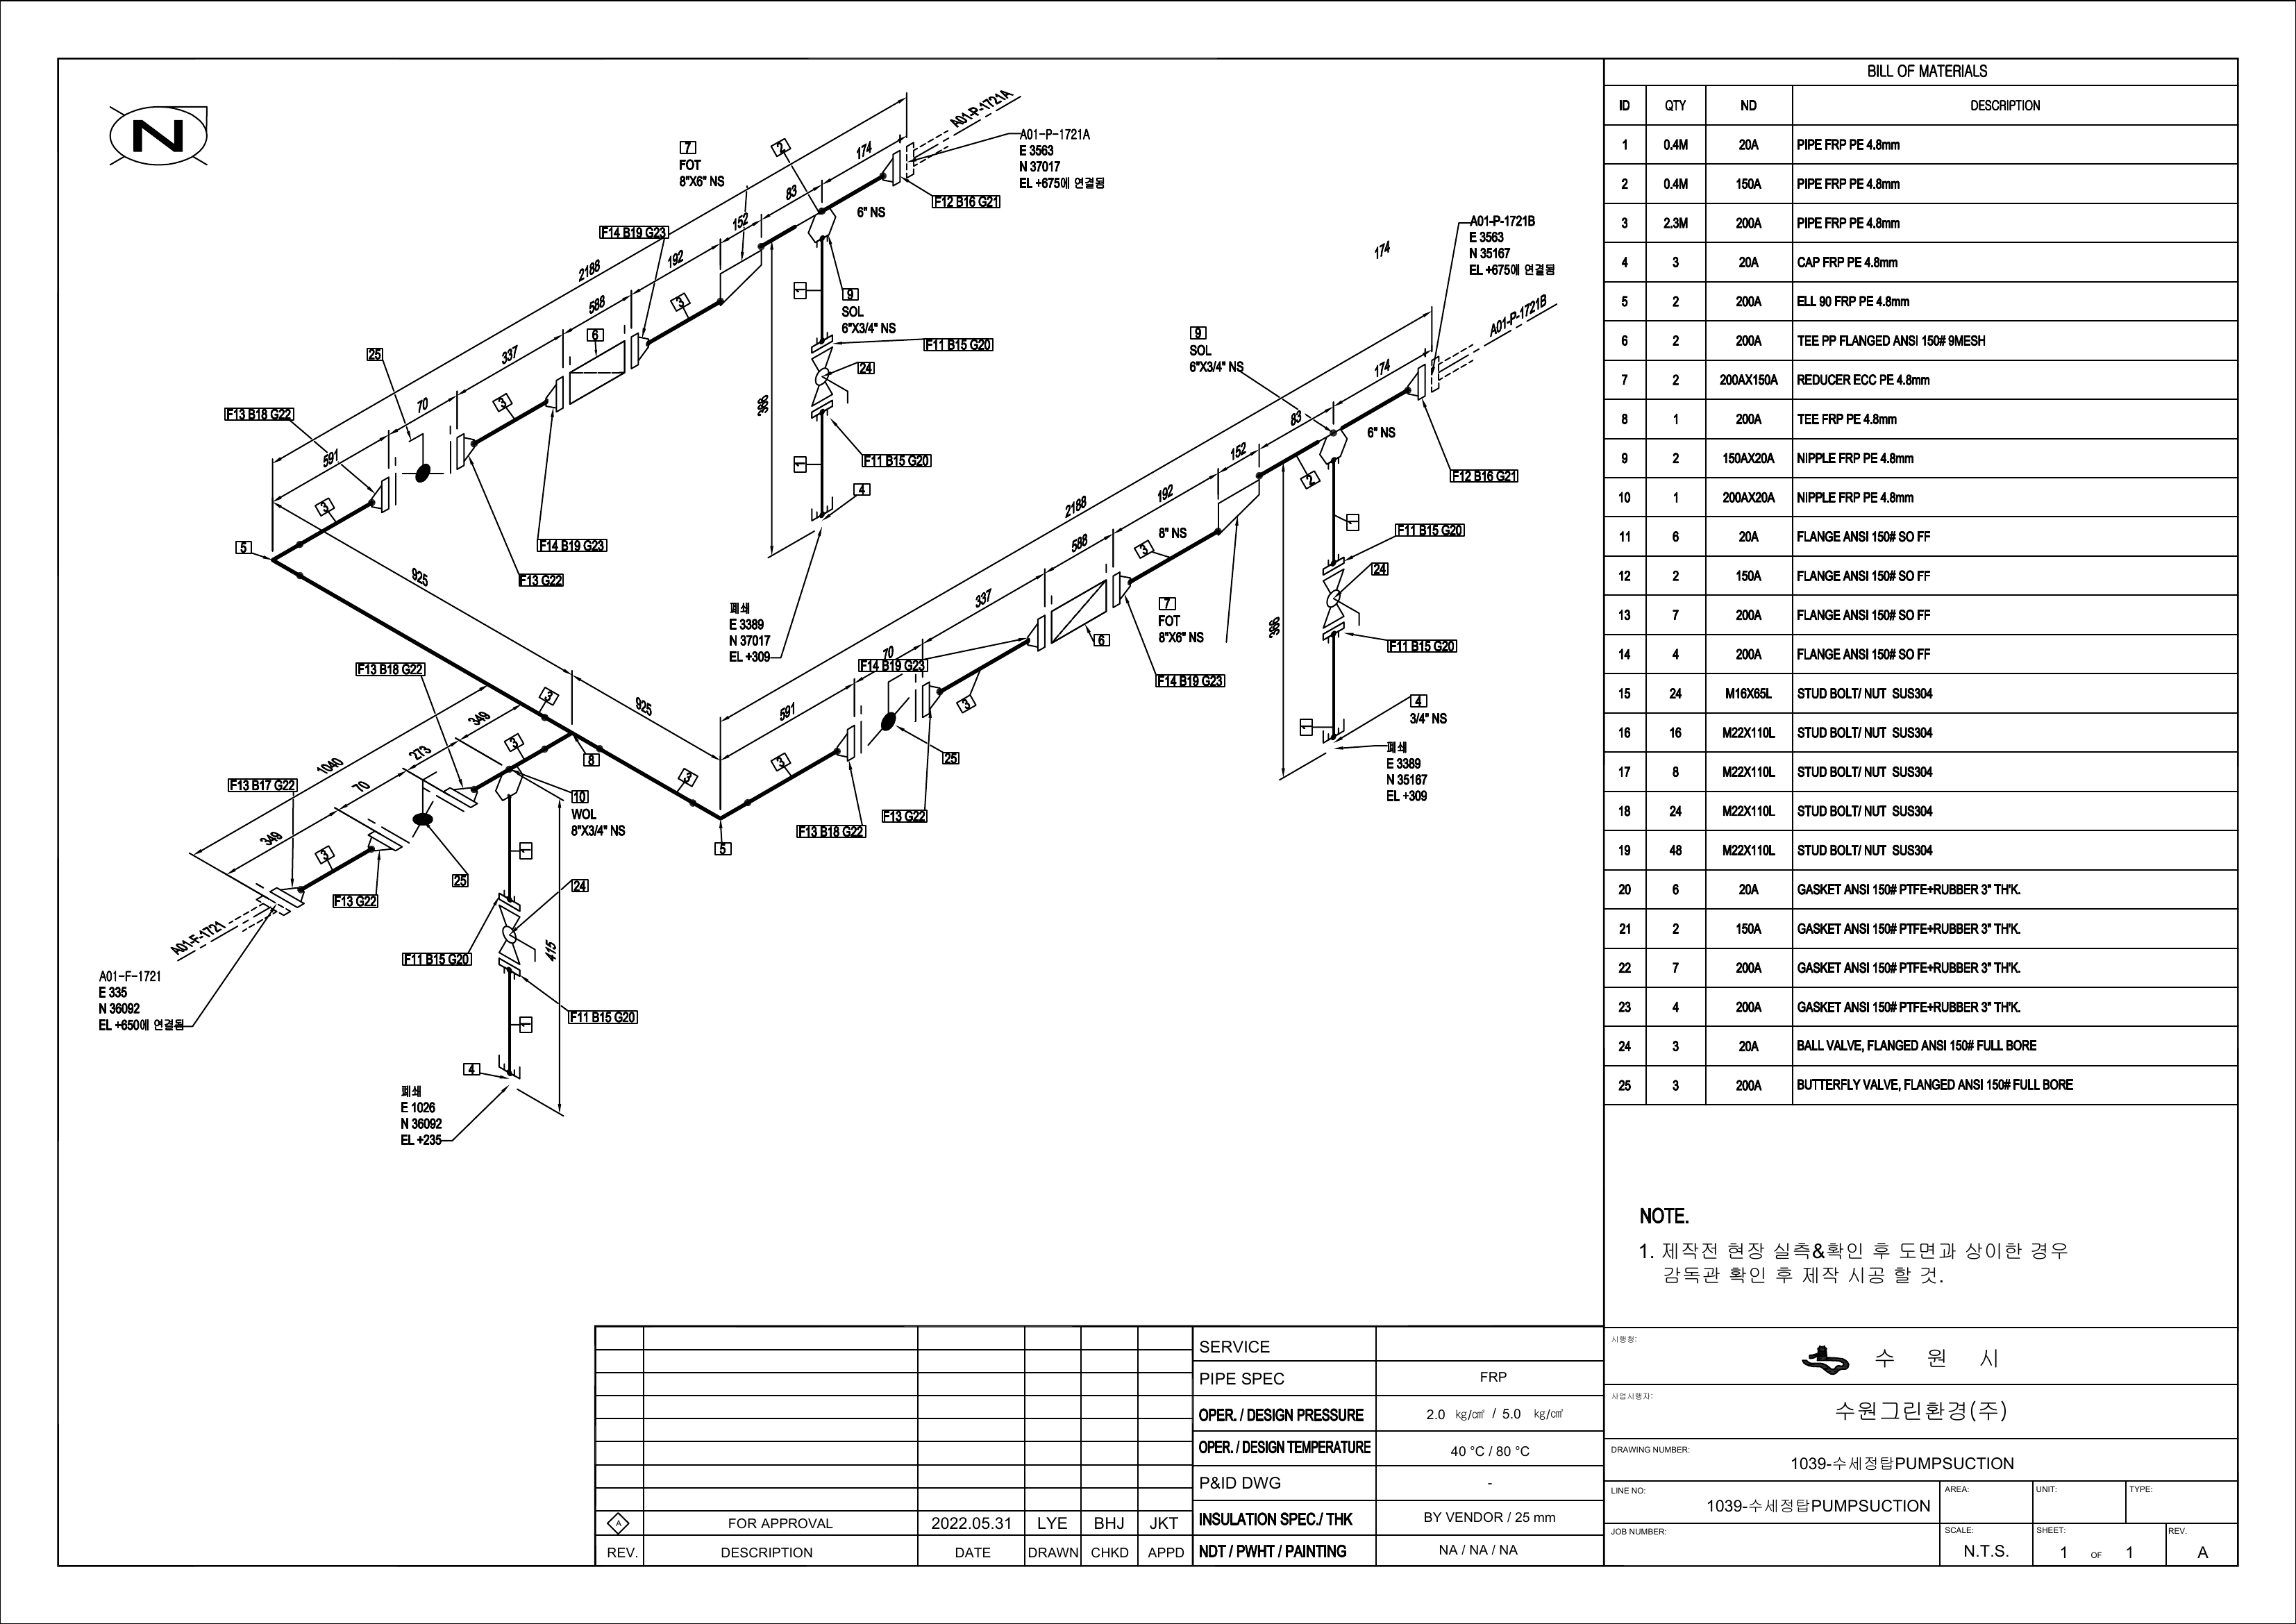table: (1599, 42, 2243, 1121)
